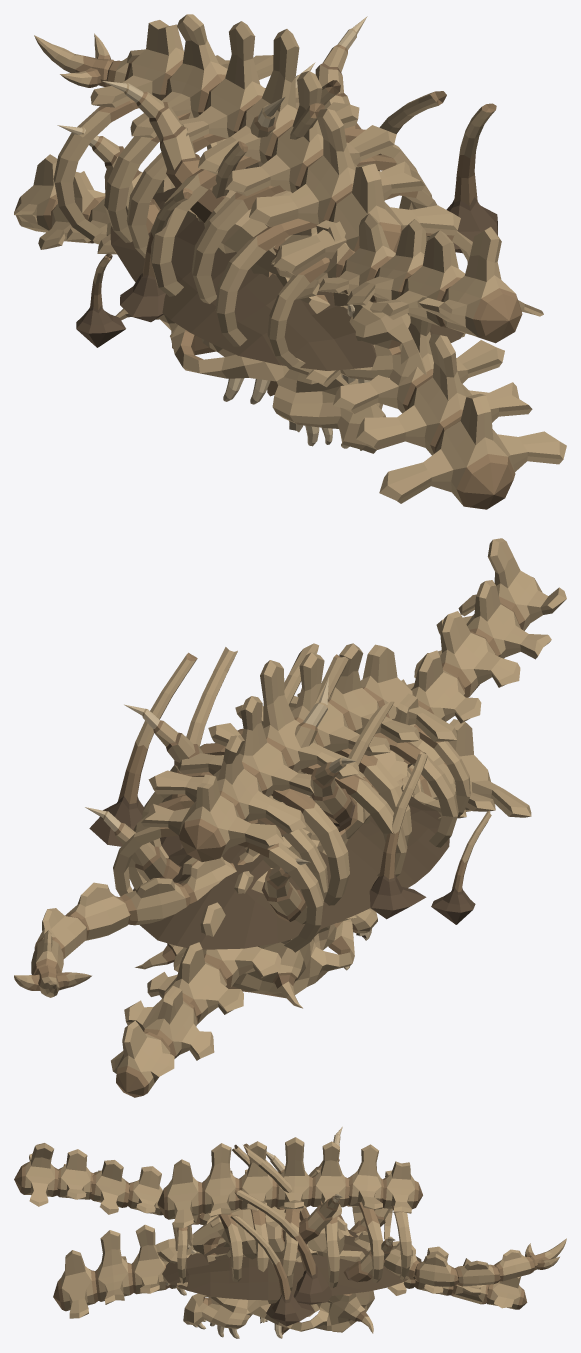
The model's file is Bones.fbx.
3 views of the same model, one above another, from view 1: azimuth 30°, elevation 25°; view 2: azimuth 150°, elevation 25°; view 3: azimuth 270°, elevation 25° (orthographic). The views are drawn at different scales.
Parts seen in each view (by area): view 1: SM_Env_Bone_Rigcage_01, SM_Env_Bone_Spine_01, SM_Env_Bone_Tail_01, SM_Env_Bone_Skull_Jaw_02, SM_Env_Bone_Skull_01, SM_Env_Bone_Skull_02, SM_Env_Bone_Ribs_01, SM_Env_Bone_Horn_01; view 2: SM_Env_Bone_Rigcage_01, SM_Env_Bone_Tail_01, SM_Env_Bone_Spine_01, SM_Env_Bone_Skull_Jaw_02, SM_Env_Bone_Ribs_01, SM_Env_Bone_Skull_02, SM_Env_Bone_Skull_01, SM_Env_Bone_Horn_01; view 3: SM_Env_Bone_Rigcage_01, SM_Env_Bone_Tail_01, SM_Env_Bone_Spine_01, SM_Env_Bone_Skull_Jaw_02, SM_Env_Bone_Skull_02, SM_Env_Bone_Ribs_01, SM_Env_Bone_Skull_01, SM_Env_Bone_Skull_Jaw_01.
Part boxes in pixels (bbox=[...]): SM_Env_Bone_Rigcage_01: bbox=[53, 14, 472, 374]; SM_Env_Bone_Spine_01: bbox=[14, 154, 566, 509]; SM_Env_Bone_Tail_01: bbox=[34, 33, 543, 343]; SM_Env_Bone_Skull_Jaw_02: bbox=[110, 187, 463, 370]; SM_Env_Bone_Skull_01: bbox=[102, 16, 426, 394]; SM_Env_Bone_Skull_02: bbox=[57, 62, 385, 453]; SM_Env_Bone_Ribs_01: bbox=[76, 80, 497, 347]; SM_Env_Bone_Horn_01: bbox=[245, 97, 284, 168]; SM_Env_Bone_Rigcage_01: bbox=[113, 643, 470, 952]; SM_Env_Bone_Tail_01: bbox=[14, 538, 566, 997]; SM_Env_Bone_Spine_01: bbox=[111, 719, 531, 1097]; SM_Env_Bone_Skull_Jaw_02: bbox=[133, 790, 449, 949]; SM_Env_Bone_Ribs_01: bbox=[89, 643, 491, 924]; SM_Env_Bone_Skull_02: bbox=[85, 807, 377, 1008]; SM_Env_Bone_Skull_01: bbox=[124, 704, 419, 854]; SM_Env_Bone_Horn_01: bbox=[272, 677, 328, 801]; SM_Env_Bone_Rigcage_01: bbox=[157, 1137, 422, 1290]; SM_Env_Bone_Tail_01: bbox=[14, 1143, 566, 1286]; SM_Env_Bone_Spine_01: bbox=[53, 1217, 527, 1318]; SM_Env_Bone_Skull_Jaw_02: bbox=[162, 1214, 421, 1300]; SM_Env_Bone_Skull_02: bbox=[183, 1208, 395, 1338]; SM_Env_Bone_Ribs_01: bbox=[230, 1143, 331, 1326]; SM_Env_Bone_Skull_01: bbox=[133, 1126, 342, 1295]; SM_Env_Bone_Skull_Jaw_01: bbox=[309, 1230, 365, 1261].
Bounding box in the file's own units: 1475 × 3054 × 1225.
